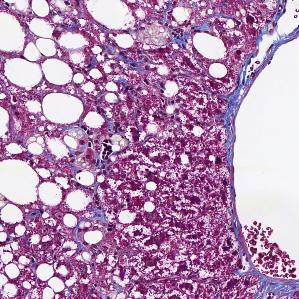fibrosis: (221, 95, 239, 175)
